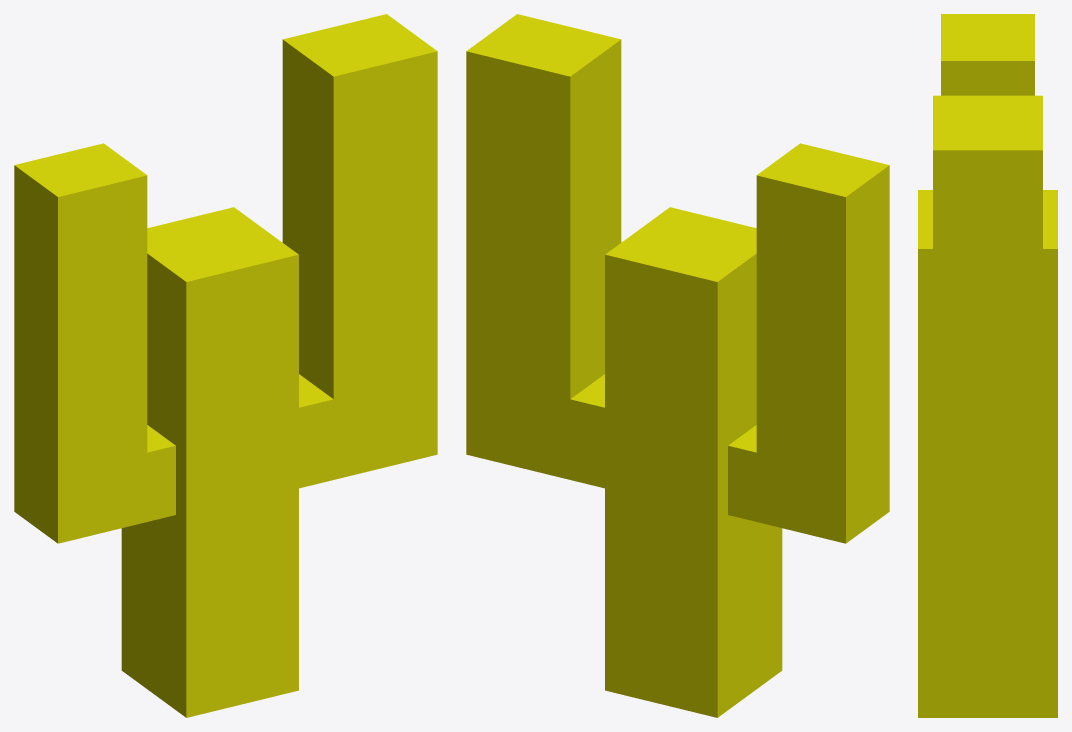
3 renders of one model, left to right at view 1: azimuth 30°, elevation 25°; view 2: azimuth 150°, elevation 25°; view 3: azimuth 270°, elevation 25°, orthographic. The views are drawn at different scales.
Parts seen in each view (by area): view 1: tree1; view 2: tree1; view 3: tree1.
Boxes of the visible parts, box(x1,y1,x2,y2) form: tree1: box(14, 14, 437, 717); tree1: box(466, 14, 889, 717); tree1: box(918, 14, 1057, 717).
Size of the model in its own units: 0.9832 by 1.5 by 0.294.
1 material, 1 textured.
